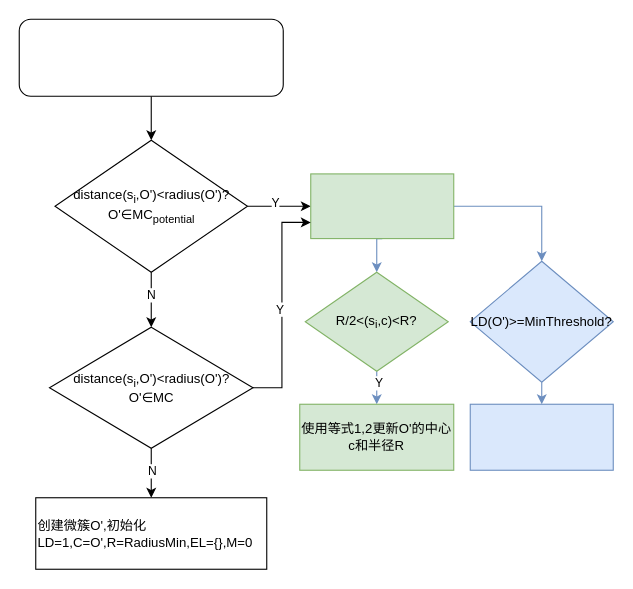
Image size: 633x589. Some labels were removed from this diagram. The shapes that lost their labels are listed below. From the top down, each one's box as (x1, y1, x2, y2) in pixels, then its label:
(18, 18, 283, 96): 输入：新数据点s i ,MC,MC potential ,RadiusMin,RadiusMax
(310, 173, 454, 239): 更新O'，LD new =LD+1
(469, 403, 613, 470): 将O'y移动至MC中
